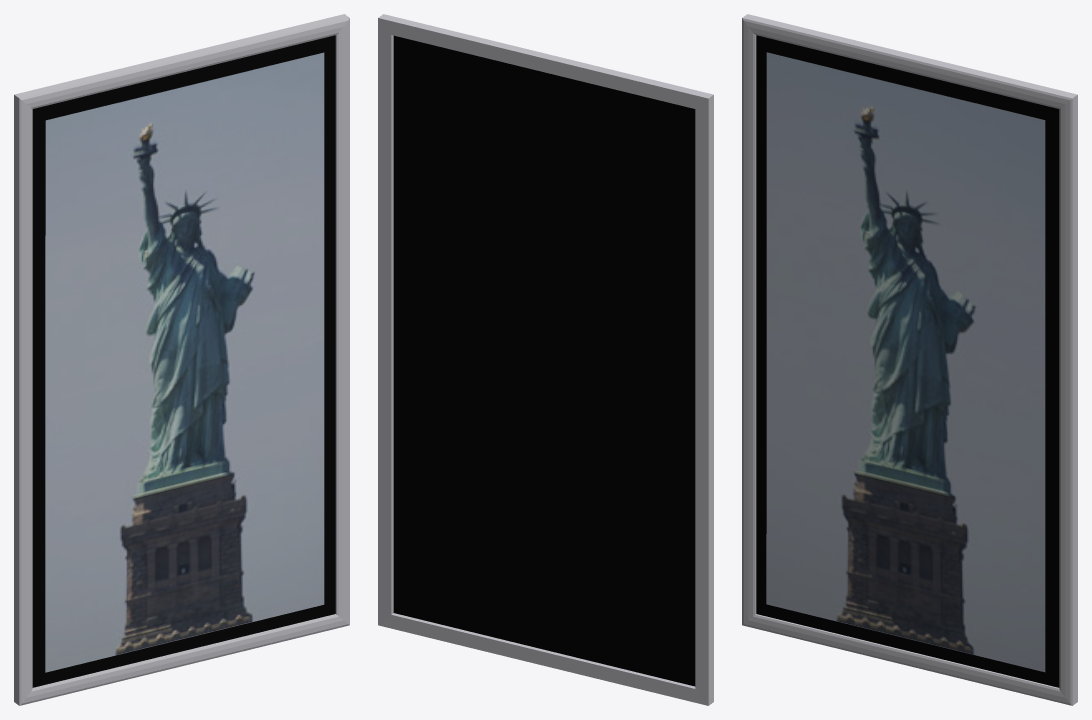
File: sweethome3d-contributions-frame-statue-of-liberty-279.glb
The picture shows the model from 3 angles, left to right: view 1: azimuth 30°, elevation 25°; view 2: azimuth 150°, elevation 25°; view 3: azimuth 330°, elevation 25°; orthographic projection.
Visible parts, largest first — view 1: Photo_Cube_Material_StatueOfLiberty, MetalFrame_Cylinder_Aluminium.010, Frame_Black_Material.012; view 2: Frame_Black_Material.012, MetalFrame_Cylinder_Aluminium.010; view 3: Photo_Cube_Material_StatueOfLiberty, MetalFrame_Cylinder_Aluminium.010, Frame_Black_Material.012.
Boxes of the visible parts, left/top/right/bottom form: Photo_Cube_Material_StatueOfLiberty: left=45, top=52, right=324, bottom=672; MetalFrame_Cylinder_Aluminium.010: left=14, top=14, right=349, bottom=705; Frame_Black_Material.012: left=32, top=35, right=335, bottom=687; Frame_Black_Material.012: left=393, top=35, right=695, bottom=686; MetalFrame_Cylinder_Aluminium.010: left=378, top=14, right=713, bottom=705; Photo_Cube_Material_StatueOfLiberty: left=766, top=52, right=1045, bottom=672; MetalFrame_Cylinder_Aluminium.010: left=742, top=14, right=1077, bottom=705; Frame_Black_Material.012: left=756, top=35, right=1059, bottom=687.
Size of the model in its own units: 50.1 by 88.01 by 1.6.
3 materials, 1 textured.
